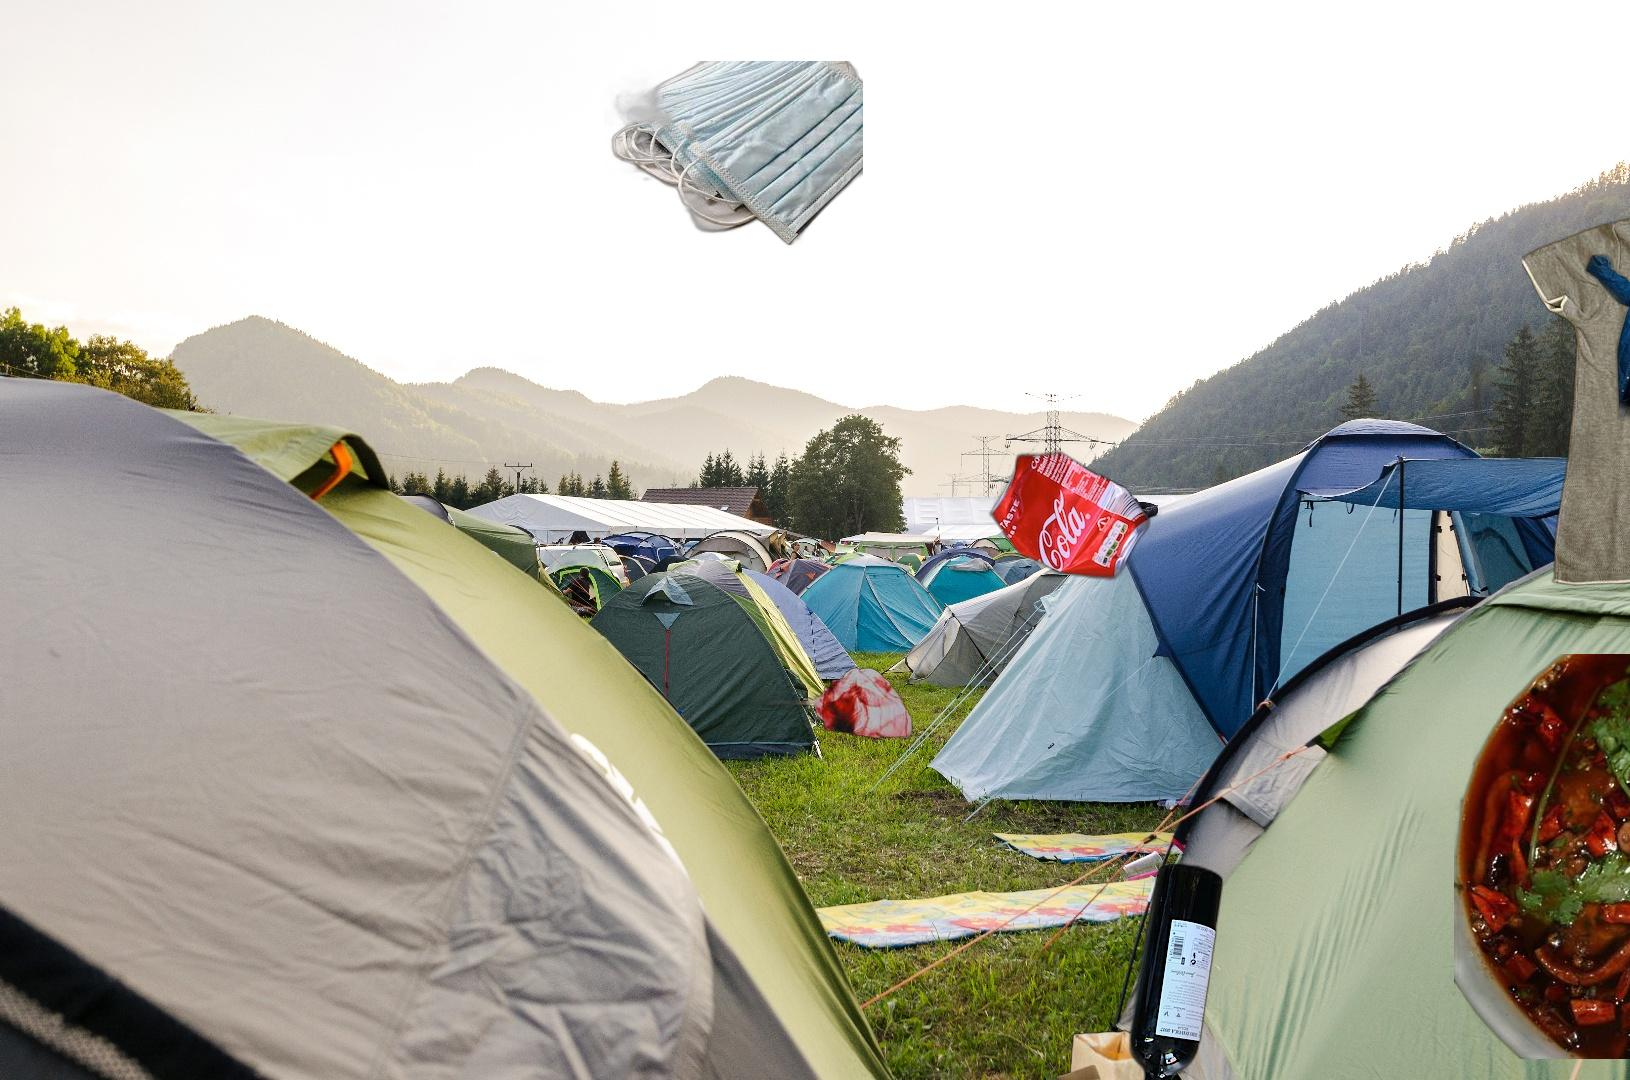biological: (1454, 655, 1630, 1060)
clothes: (1522, 196, 1630, 589)
glass: (1126, 857, 1226, 1080)
metal-cans: (985, 446, 1155, 585)
paper-bag: (1053, 1029, 1167, 1080)
plastic-bag: (730, 665, 916, 741)
trash: (604, 61, 863, 250)
trashbox-cardboard: (1465, 221, 1630, 521)
